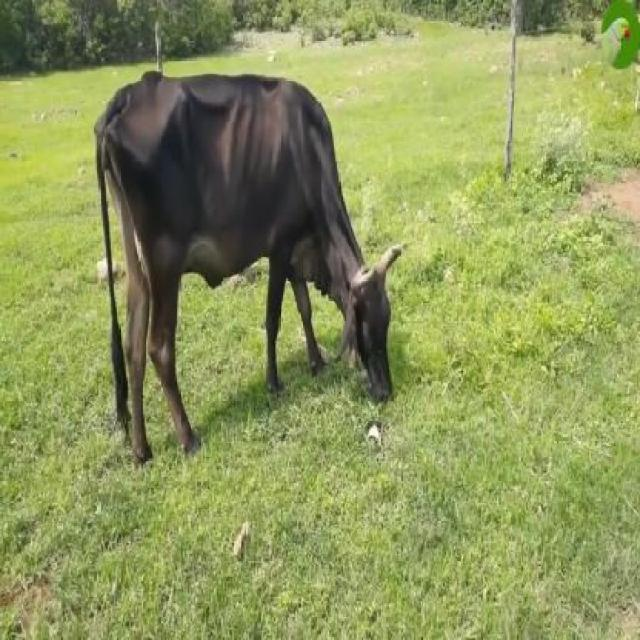Cow: (94, 72, 401, 451)
